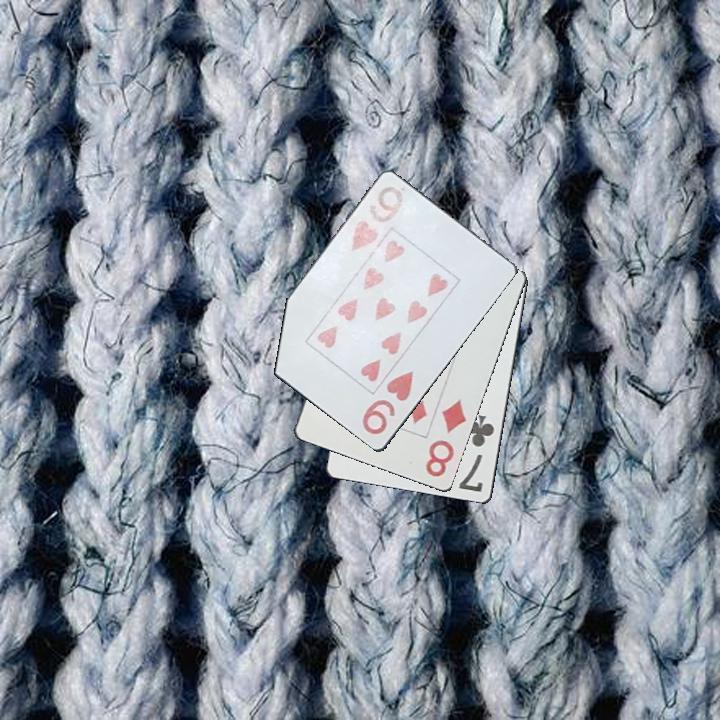7c: (455, 411, 498, 496)
8d: (422, 396, 470, 480)
9h: (345, 183, 408, 255), (358, 367, 420, 438)
